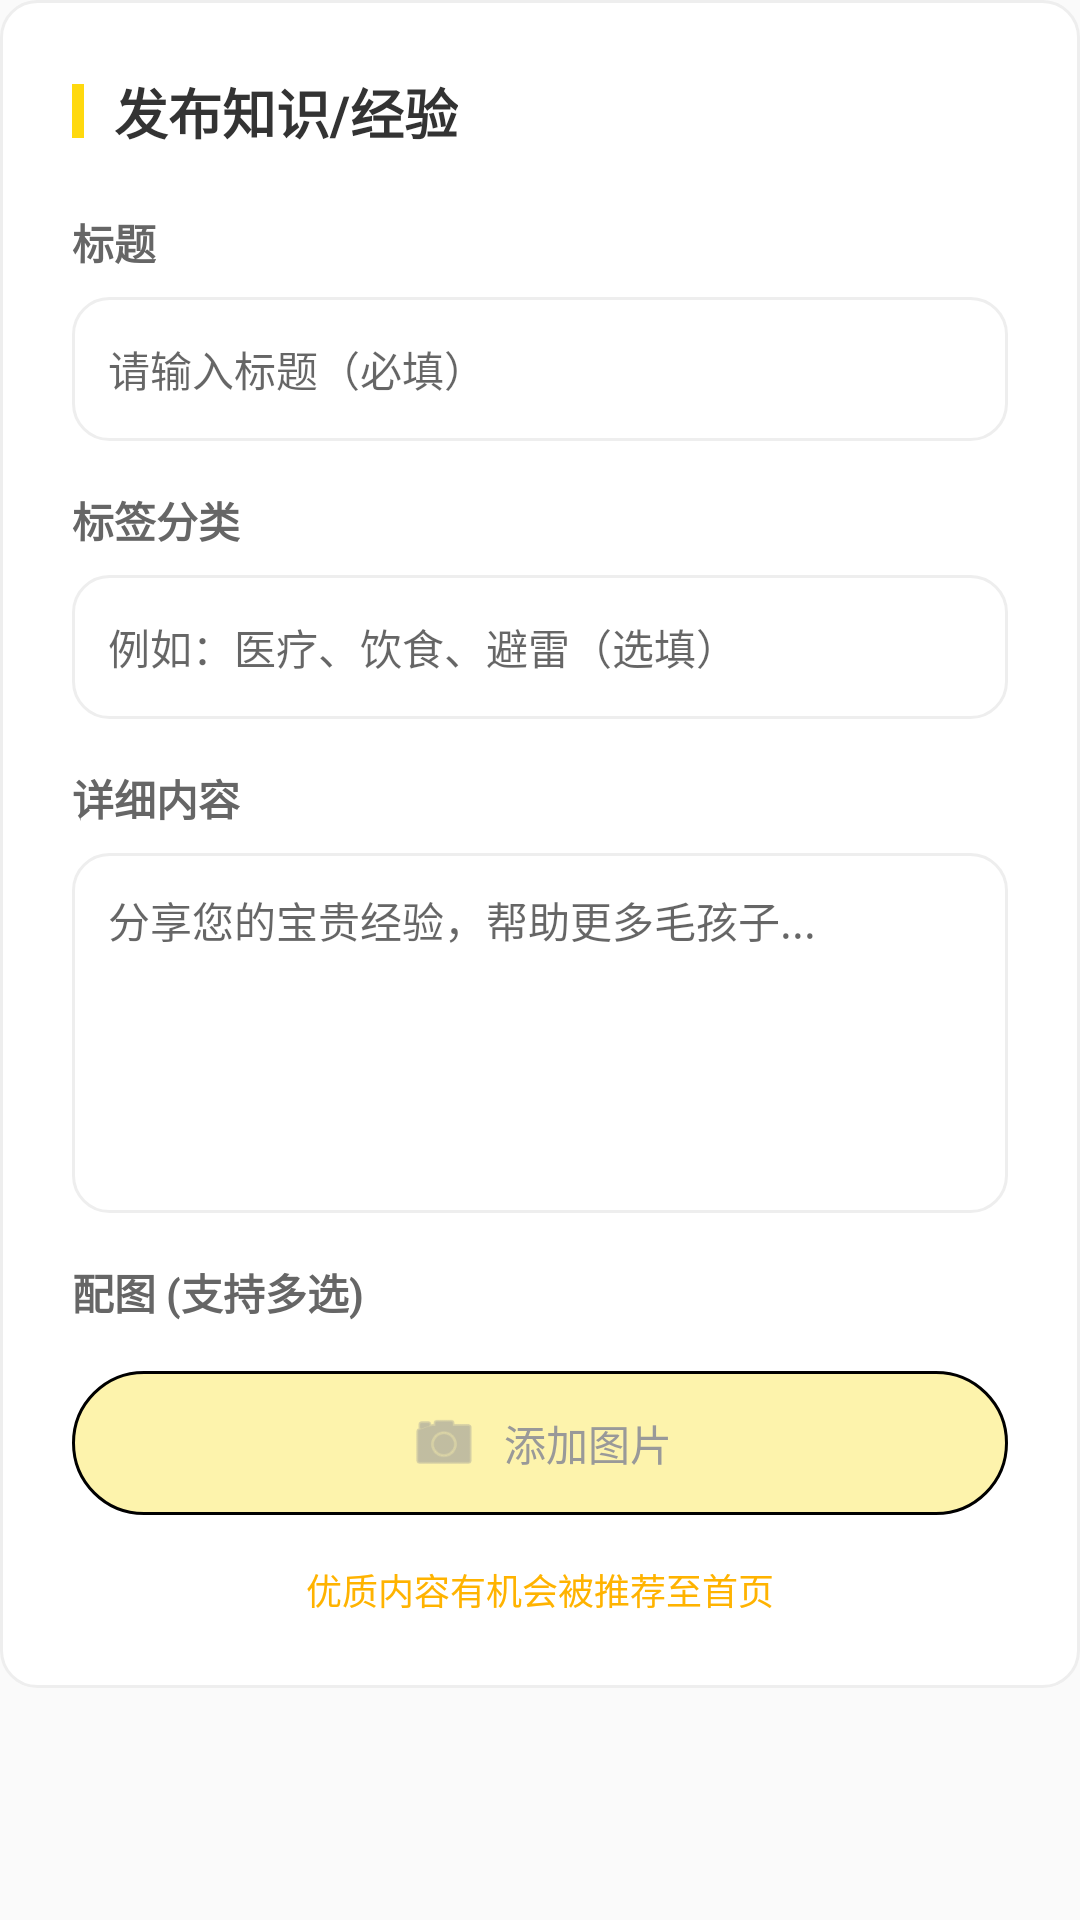

Icon click points for this 1080 x 1920 phone screenshot, format (x=x, y=y):
camera: (x=444, y=1442)
